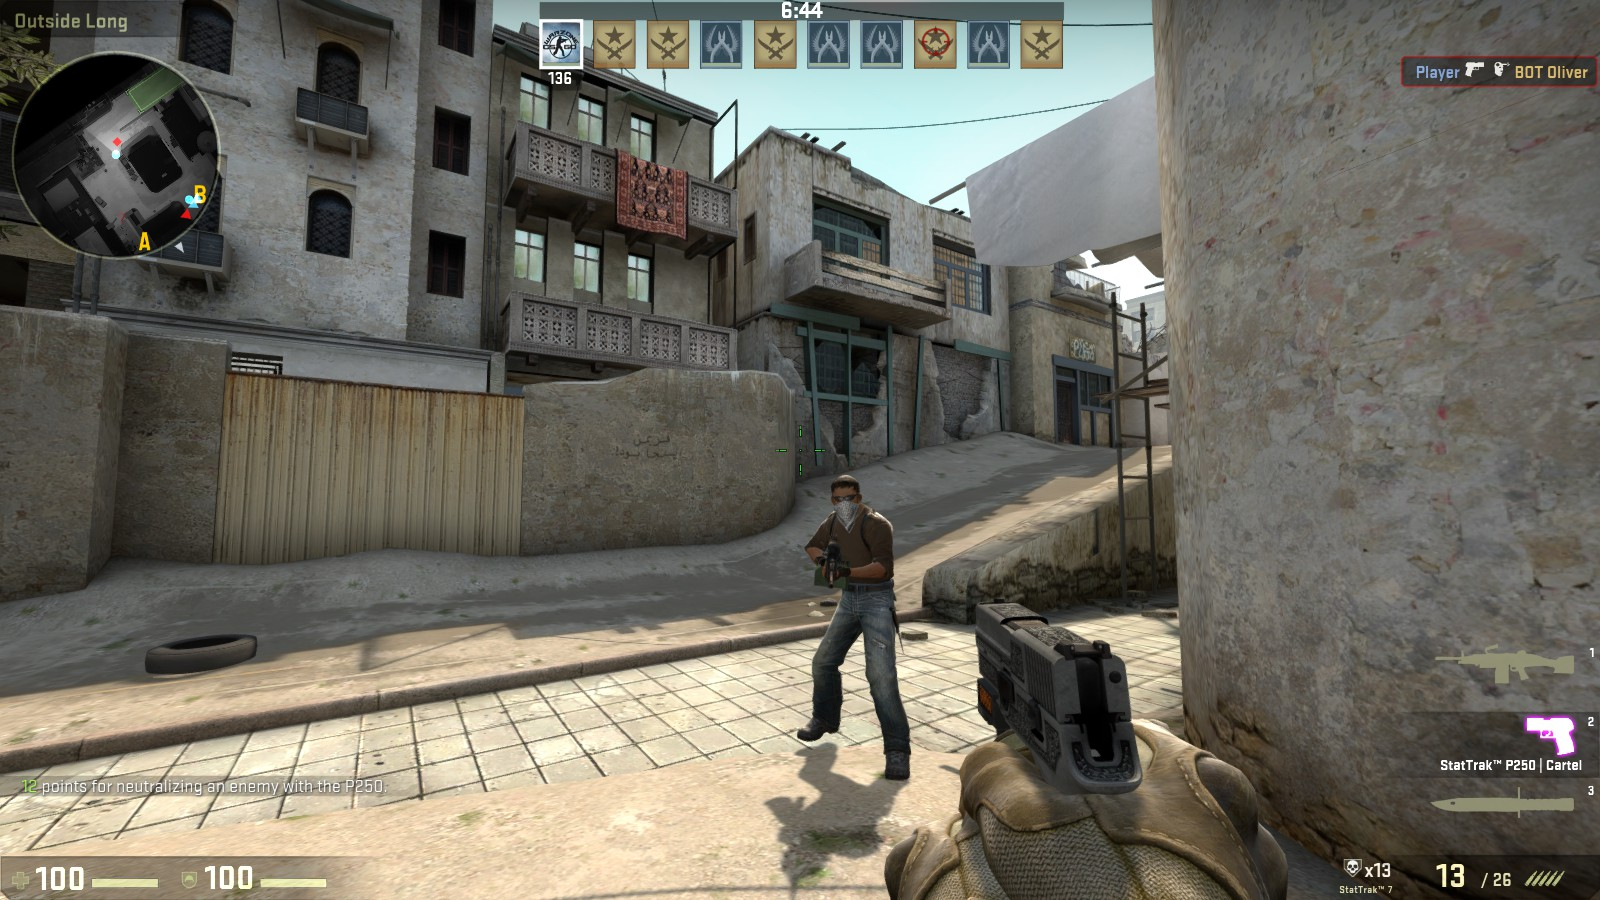t: (801, 473, 911, 780)
th: (825, 473, 863, 524)
